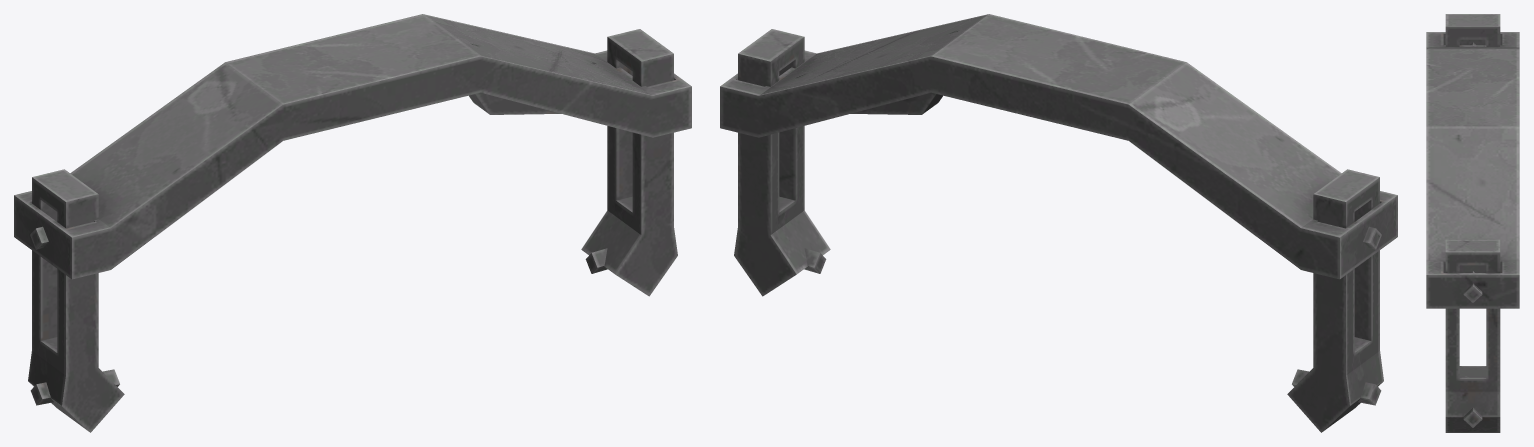
File: conveyor_to_conveyor.glb
3 renders of one model, left to right at view 1: azimuth 30°, elevation 25°; view 2: azimuth 150°, elevation 25°; view 3: azimuth 270°, elevation 25°, orthographic. The views are drawn at different scales.
Visible parts, largest first — view 1: conveyor_to_conveyor; view 2: conveyor_to_conveyor; view 3: conveyor_to_conveyor.
Boxes of the visible parts, x1,y1,x2,y2 form: conveyor_to_conveyor: (14,14,691,432); conveyor_to_conveyor: (720,14,1397,432); conveyor_to_conveyor: (1426,14,1519,432).
Size of the model in its own units: 1.07 by 0.4726 by 0.1697.
1 material, 1 textured.
